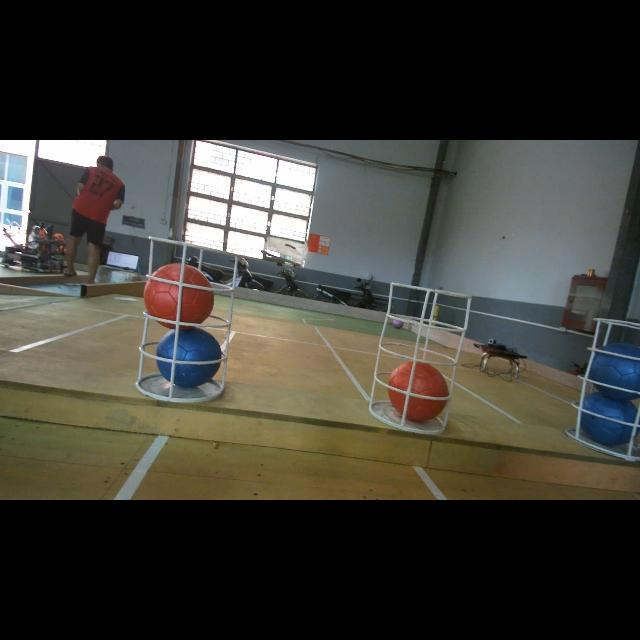B: (156, 327, 222, 389), (580, 392, 640, 448), (588, 340, 640, 398)
R: (143, 263, 215, 329), (387, 361, 449, 424)
